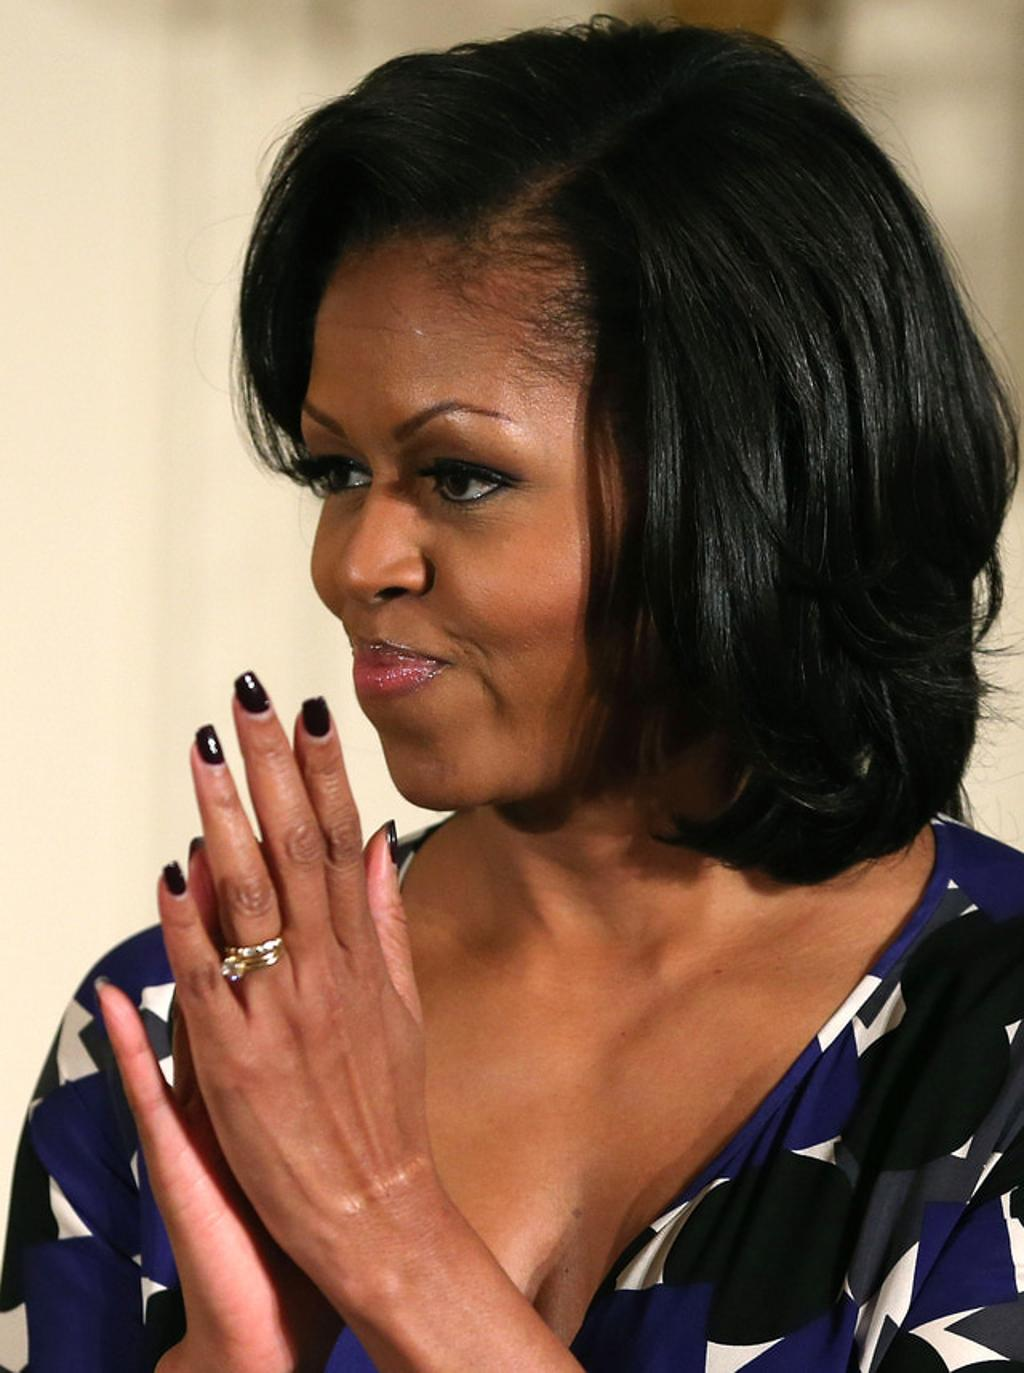face: (295, 228, 745, 812)
